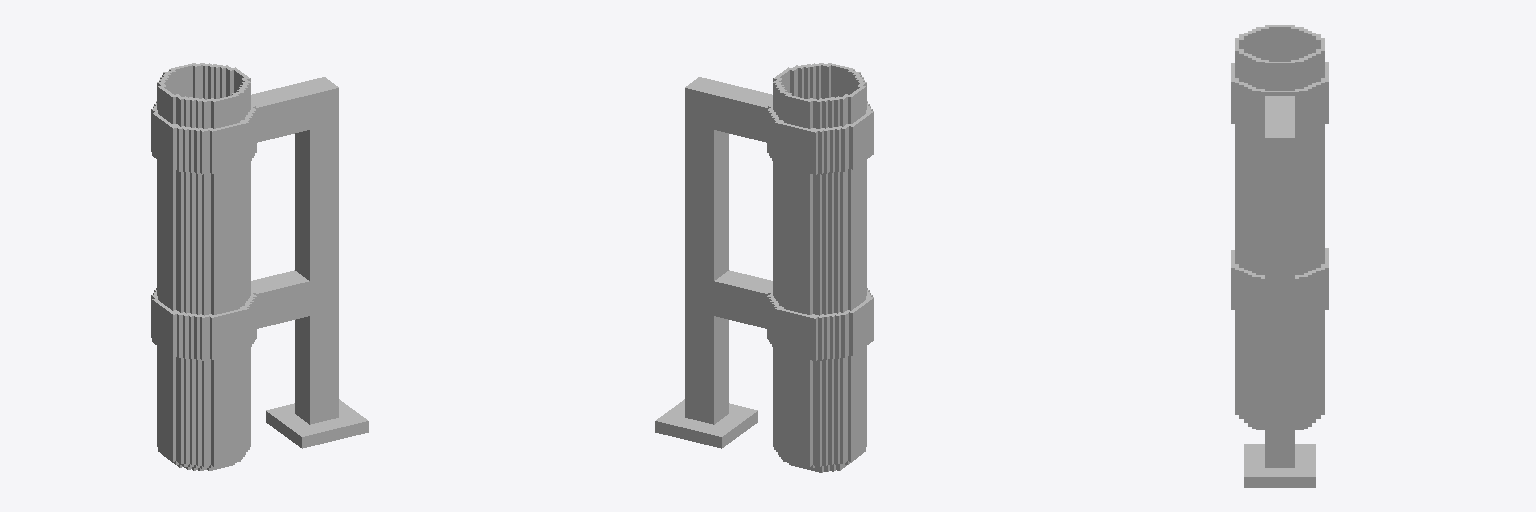
Rendered from chem1.obj.
3 views of the same model, side by side, from view 1: azimuth 30°, elevation 25°; view 2: azimuth 150°, elevation 25°; view 3: azimuth 270°, elevation 25° (orthographic).
Visible parts, largest first — view 1: object 1; view 2: object 1; view 3: object 1.
Boxes of the visible parts, x1,y1,x2,y2 form: object 1: [151, 63, 368, 470]; object 1: [655, 63, 873, 472]; object 1: [1231, 25, 1328, 487].
Size of the model in its own units: 5.1 by 9.6 by 2.3.